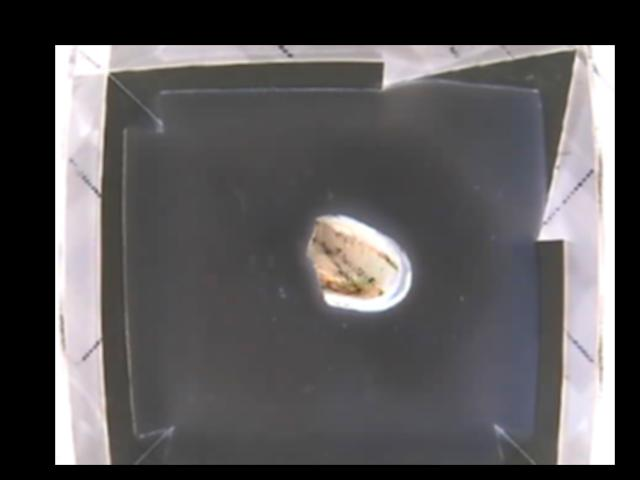Shell: (307, 213, 411, 310)
